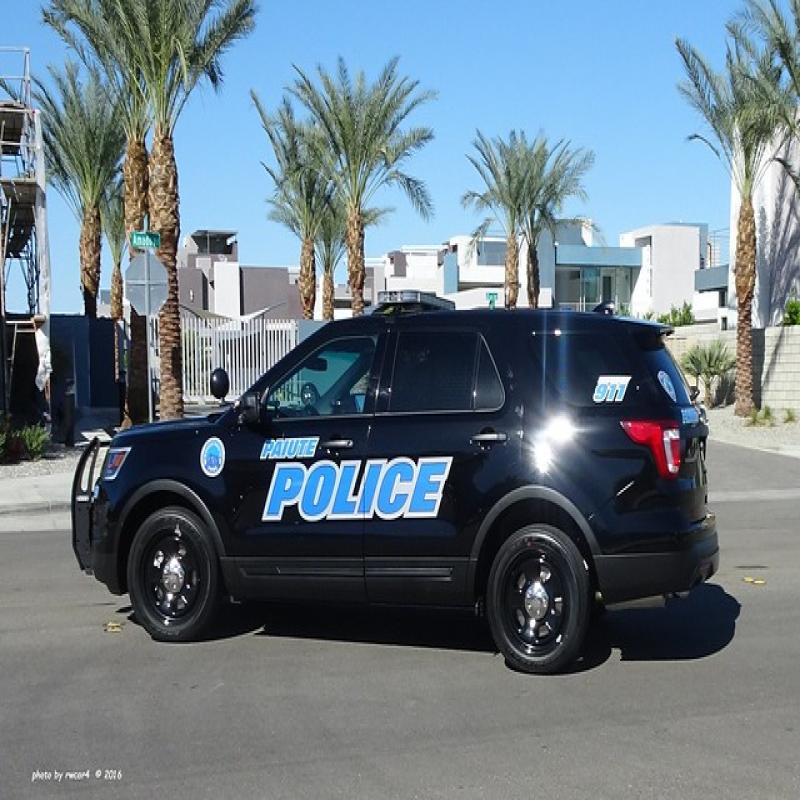AmbulanceSiren: (361, 273, 463, 316)
